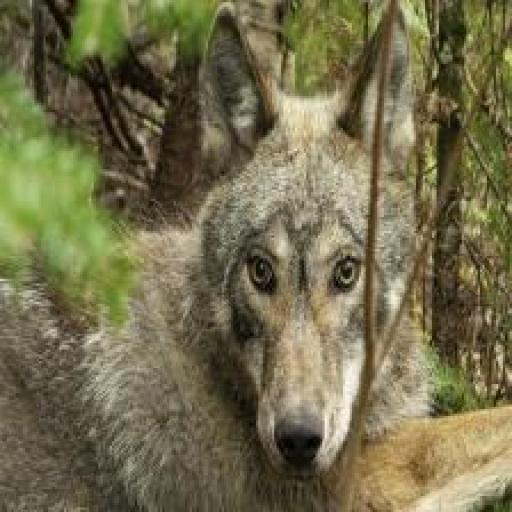wolf: (0, 0, 453, 512)
